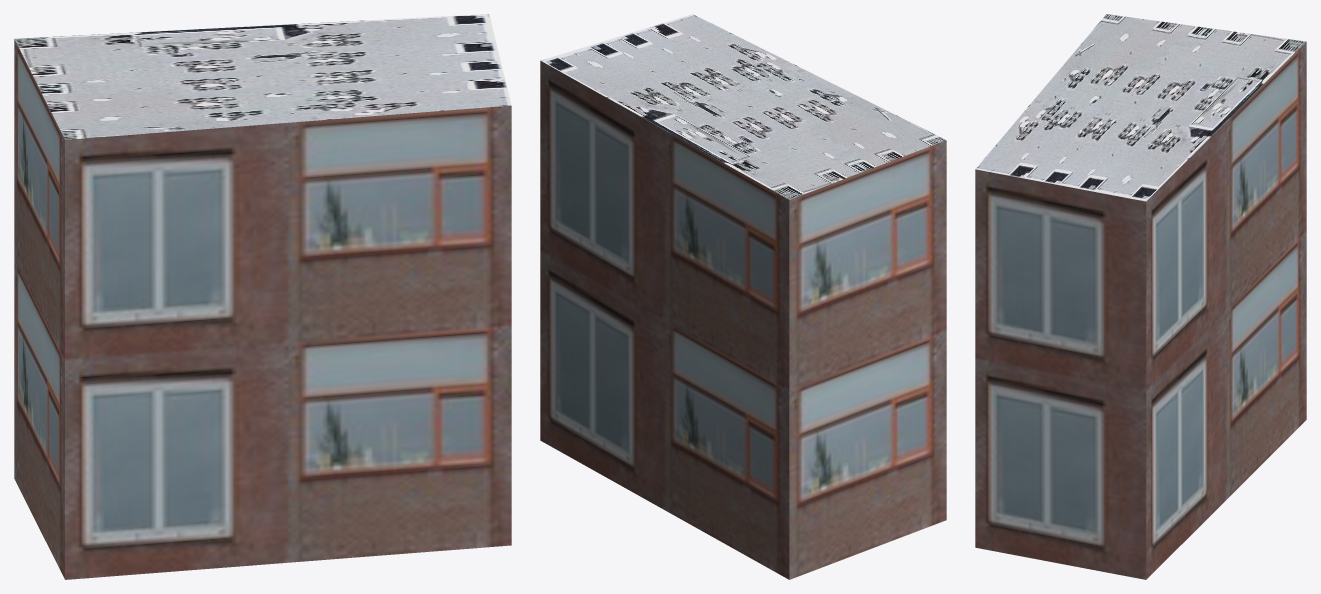
File: ResTex__3133.fbx
The picture shows the model from 3 angles, left to right: view 1: azimuth 30°, elevation 25°; view 2: azimuth 150°, elevation 25°; view 3: azimuth 270°, elevation 25°; orthographic projection. The views are drawn at different scales.
Visible parts, largest first — view 1: CityEngineMaterial_19_m, CityEngineMaterial_4_m; view 2: CityEngineMaterial_19_m, CityEngineMaterial_4_m; view 3: CityEngineMaterial_19_m, CityEngineMaterial_4_m.
Part boxes in pixels (left/top/right/bottom): CityEngineMaterial_19_m: left=14, top=39, right=511, bottom=579; CityEngineMaterial_4_m: left=14, top=14, right=511, bottom=139; CityEngineMaterial_19_m: left=540, top=61, right=946, bottom=579; CityEngineMaterial_4_m: left=540, top=14, right=945, bottom=199; CityEngineMaterial_19_m: left=975, top=42, right=1306, bottom=579; CityEngineMaterial_4_m: left=975, top=14, right=1306, bottom=201.
Size of the model in its own units: 6.38 by 6 by 4.76.
2 materials, 2 textured.
